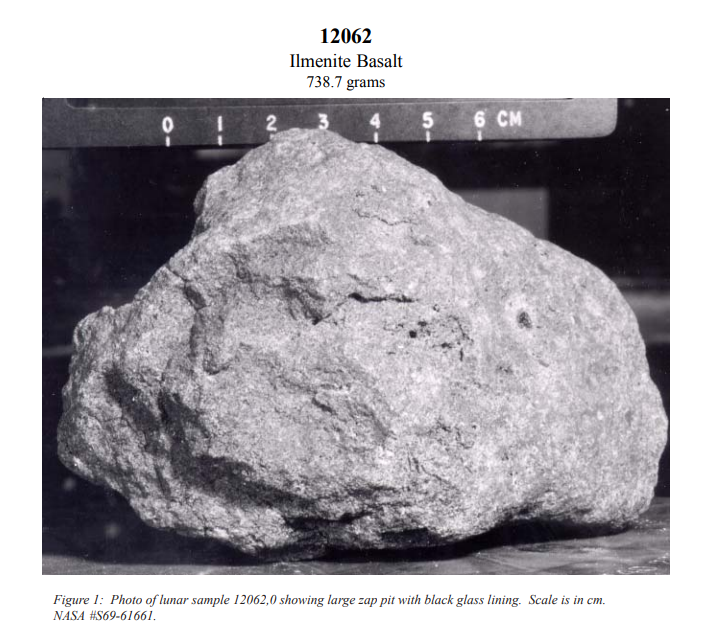Basalt: (30, 176, 681, 546), (246, 217, 605, 522)
